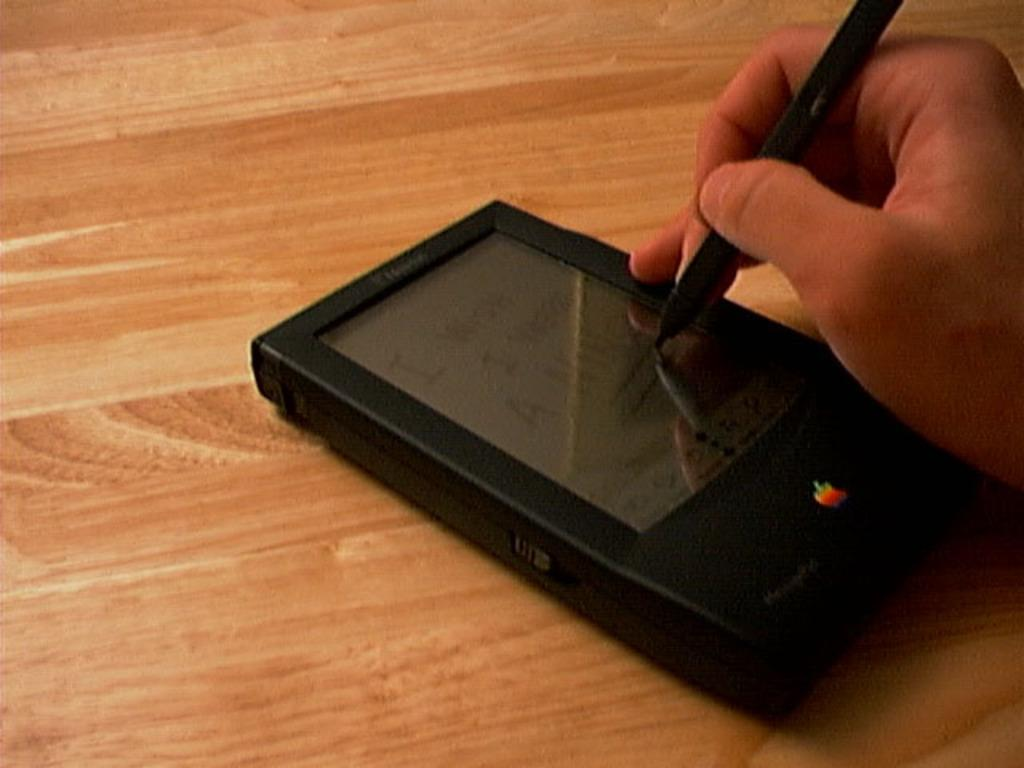pen: (648, 0, 912, 357)
